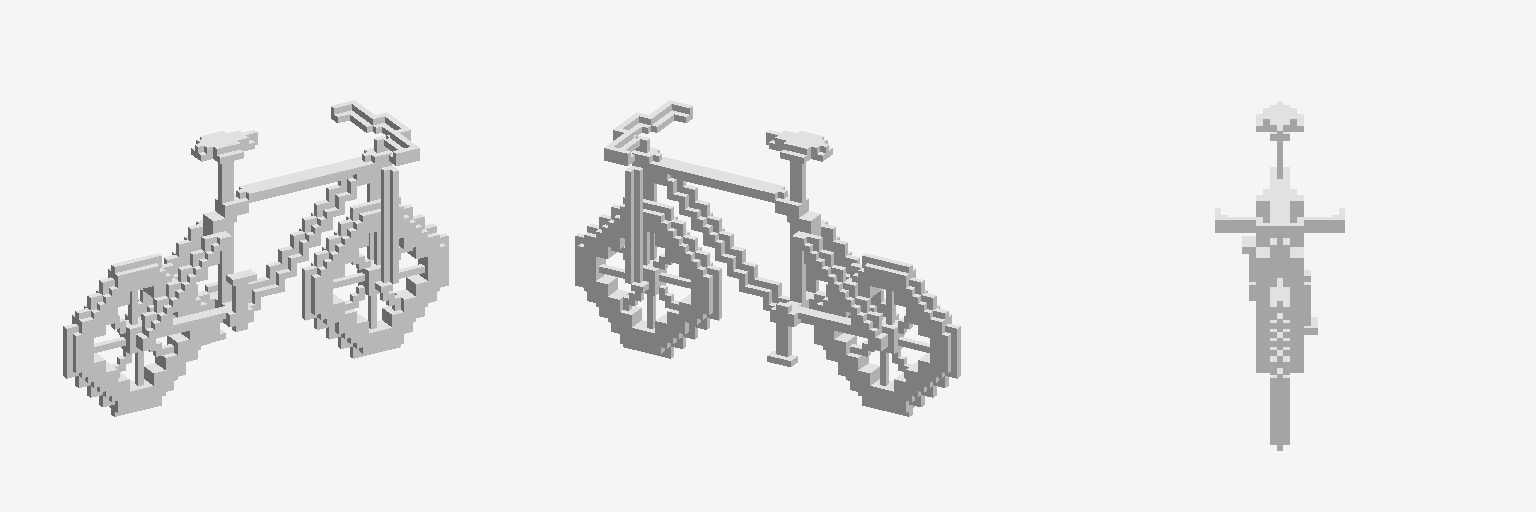
The model's file is bike-1-Bike.obj.
The picture shows the model from 3 angles: view 1: azimuth 30°, elevation 25°; view 2: azimuth 150°, elevation 25°; view 3: azimuth 270°, elevation 25°; orthographic projection.
Visible parts, largest first — view 1: Bike; view 2: Bike; view 3: Bike.
Boxes of the visible parts, x1=… form: Bike: x1=63, y1=100, x2=448, y2=416; Bike: x1=575, y1=100, x2=960, y2=416; Bike: x1=1215, y1=102, x2=1344, y2=450.
Bounding box in the file's own units: 6.4 × 4 × 1.9.